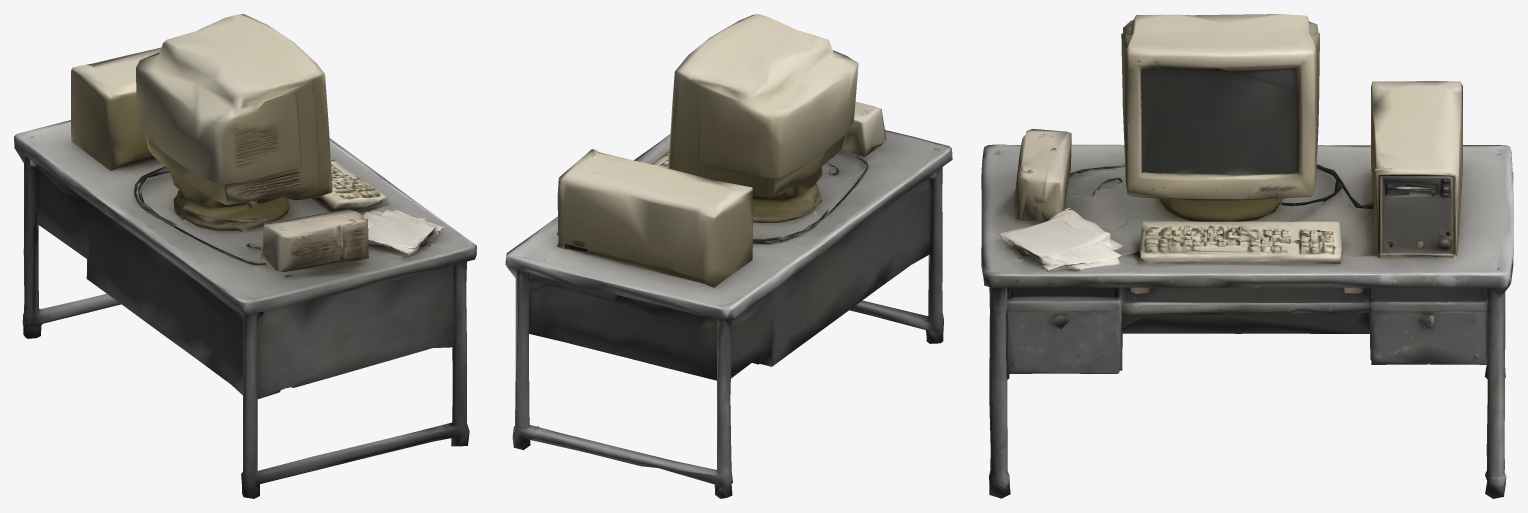
Rendered from ul_computer.glb.
3 views of the same model, side by side, from view 1: azimuth 30°, elevation 25°; view 2: azimuth 150°, elevation 25°; view 3: azimuth 270°, elevation 25° (orthographic). The views are drawn at different scales.
Parts seen in each view (by area): view 1: tripo_node_1f0585fb-6718-4c69-97f0-3c545ce9e79b; view 2: tripo_node_1f0585fb-6718-4c69-97f0-3c545ce9e79b; view 3: tripo_node_1f0585fb-6718-4c69-97f0-3c545ce9e79b.
Boxes of the visible parts, x1=… form: tripo_node_1f0585fb-6718-4c69-97f0-3c545ce9e79b: x1=14, y1=14, x2=476, y2=498; tripo_node_1f0585fb-6718-4c69-97f0-3c545ce9e79b: x1=505, y1=14, x2=952, y2=498; tripo_node_1f0585fb-6718-4c69-97f0-3c545ce9e79b: x1=981, y1=14, x2=1513, y2=498.
Size of the model in its own units: 0.5844 by 0.8307 by 1.
Materials: 1 (1 with a texture image).
